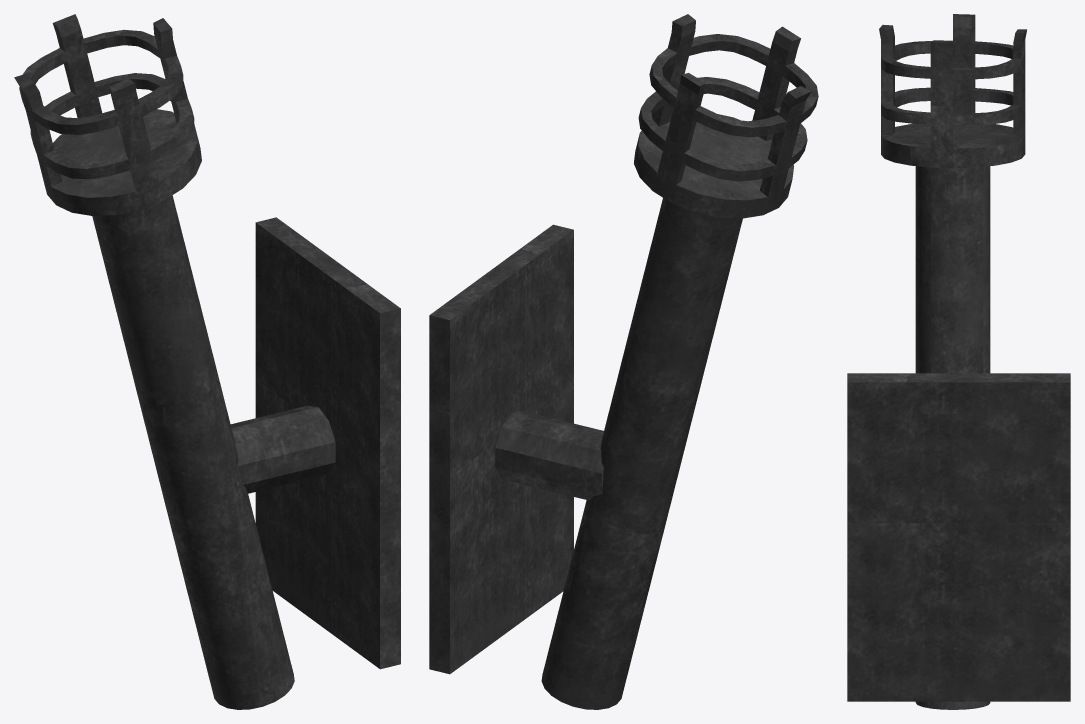
File: Torch.obj
3 views of the same model, side by side, from view 1: azimuth 30°, elevation 25°; view 2: azimuth 150°, elevation 25°; view 3: azimuth 270°, elevation 25° (orthographic). The views are drawn at different scales.
Parts seen in each view (by area): view 1: Torch; view 2: Torch; view 3: Torch.
Boxes of the visible parts, <box> form: Torch: <box>14,14,400,709</box>; Torch: <box>429,14,818,709</box>; Torch: <box>847,14,1070,709</box>.
Bounding box in the file's own units: 0.4761 × 0.9993 × 0.3219.
1 material, 1 textured.
